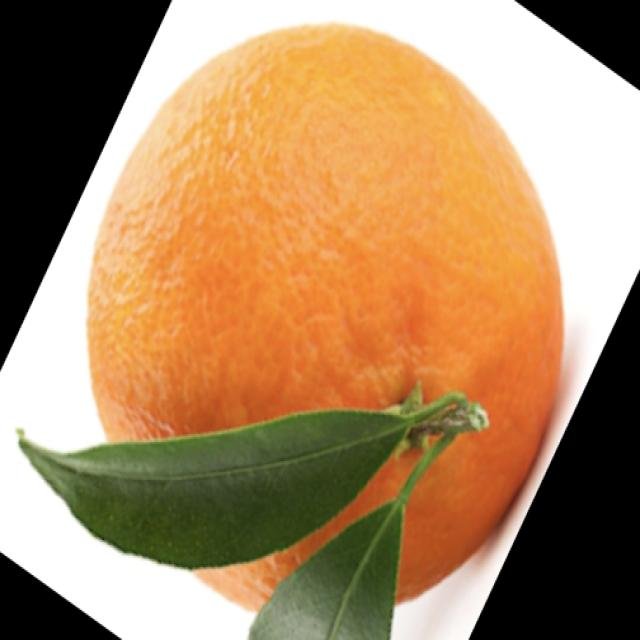matang: (83, 14, 561, 612)
